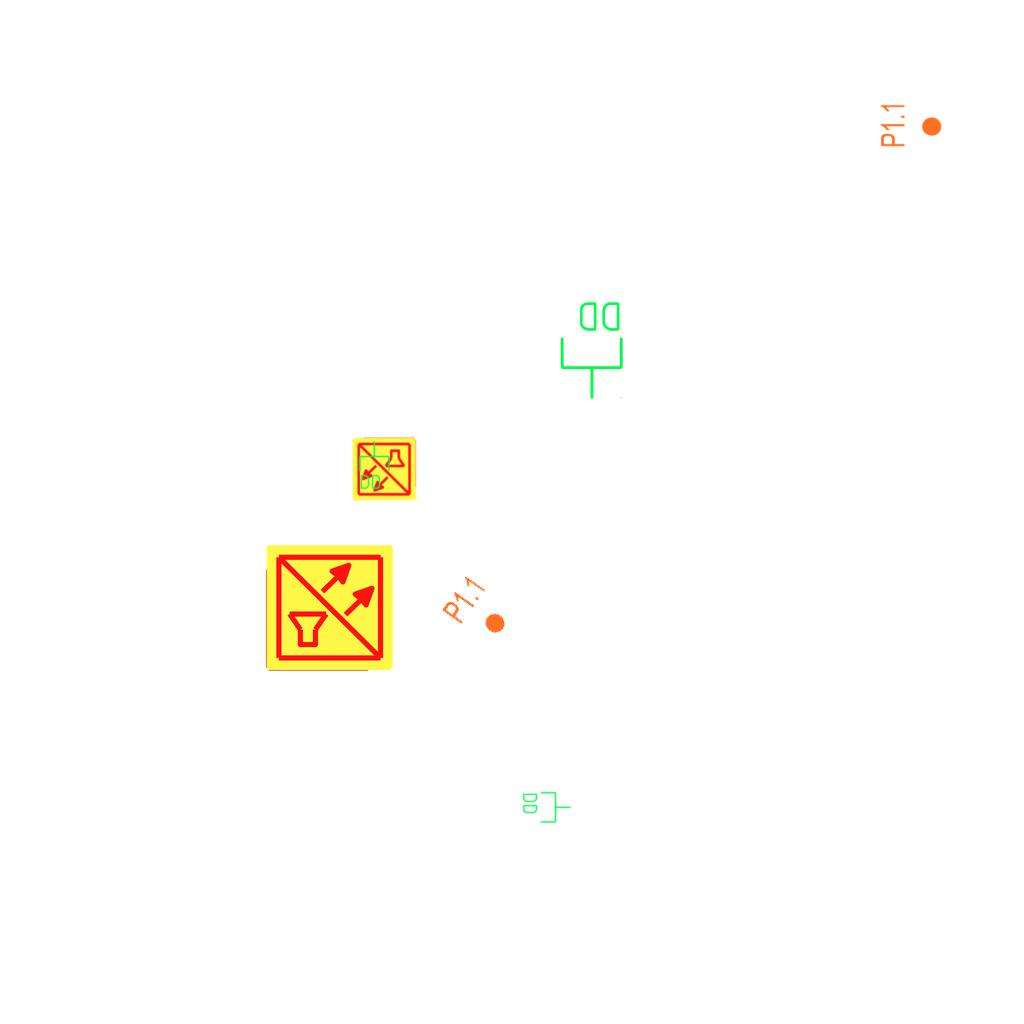Datenanschluss_zweifach: (558, 298, 627, 401), (521, 790, 572, 824), (357, 440, 391, 491)
Downlight_LED_Einbauleuchten_Flur: (439, 572, 519, 648), (879, 102, 943, 148)
OKW_Multisensormelder_(Kombination_optischer_Rauch-Kahlenmonoxid_Waerme-Melder): (264, 542, 396, 674), (350, 435, 418, 503)
